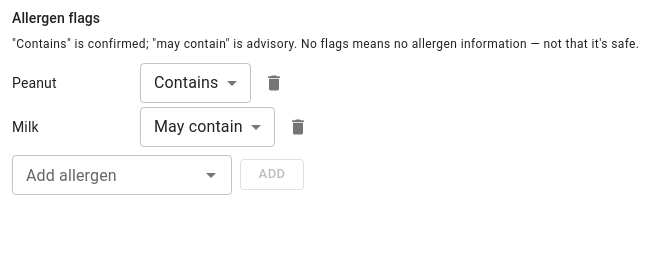
Test: AllergenFlagsEditor › lists current flags and offers only unflagged allergens
The image size is (655, 266).
Expected: the text "Peanut" is shown, [12,75,57,91]
Expected: the text "Milk" is shown, [12,119,39,135]
Press the mouse on the dropdown labelled "Add allergen" at [106, 175], box [18,161,193,189]
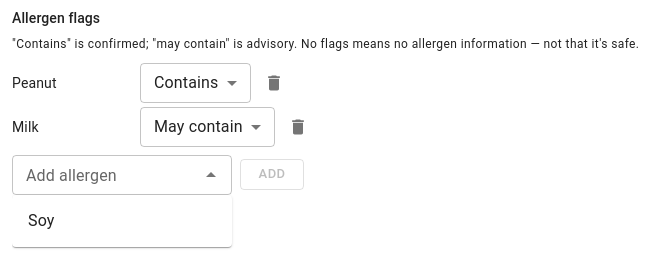
Expected: the option "Soy" is shown, [28,211,54,230]
